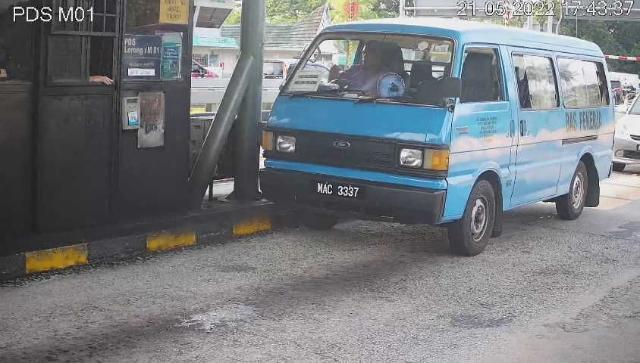License_Plate: (314, 179, 367, 204)
van: (261, 21, 617, 259)
